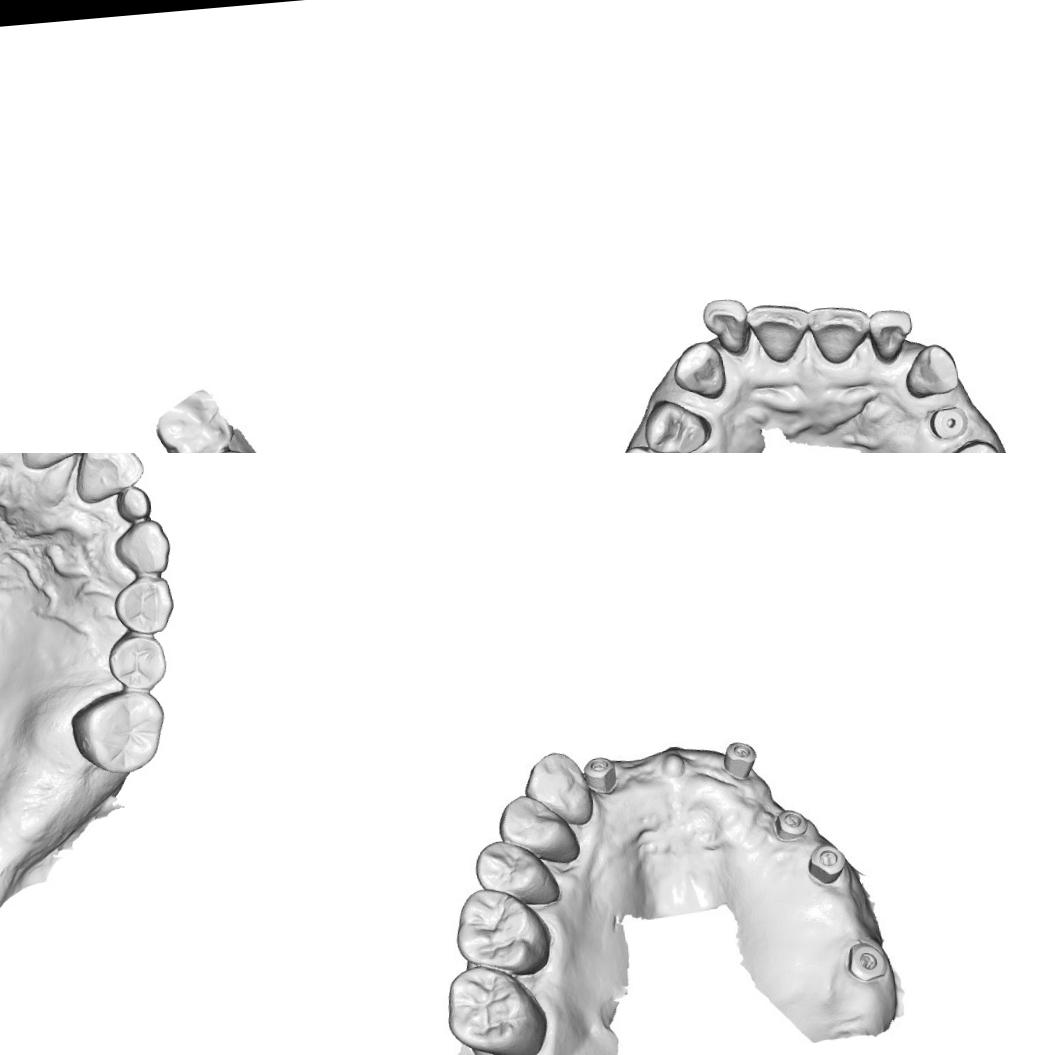canine: (520, 745, 596, 832), (900, 340, 961, 405), (668, 339, 728, 405), (109, 518, 171, 579)
implant: (843, 933, 895, 985), (807, 840, 851, 884), (720, 736, 761, 782), (927, 402, 968, 444), (772, 805, 810, 844), (583, 754, 617, 794)
incisor: (806, 299, 873, 366), (746, 298, 812, 364), (70, 453, 147, 505), (700, 293, 754, 356), (866, 303, 914, 364), (112, 483, 154, 521), (16, 453, 92, 470)
molar: (442, 959, 553, 1055), (452, 880, 555, 980), (67, 685, 170, 778), (147, 380, 236, 453)
premolar: (492, 788, 582, 870), (471, 833, 560, 911), (110, 574, 176, 636), (644, 393, 712, 453), (105, 630, 167, 692), (935, 438, 1006, 453), (612, 440, 692, 453)
